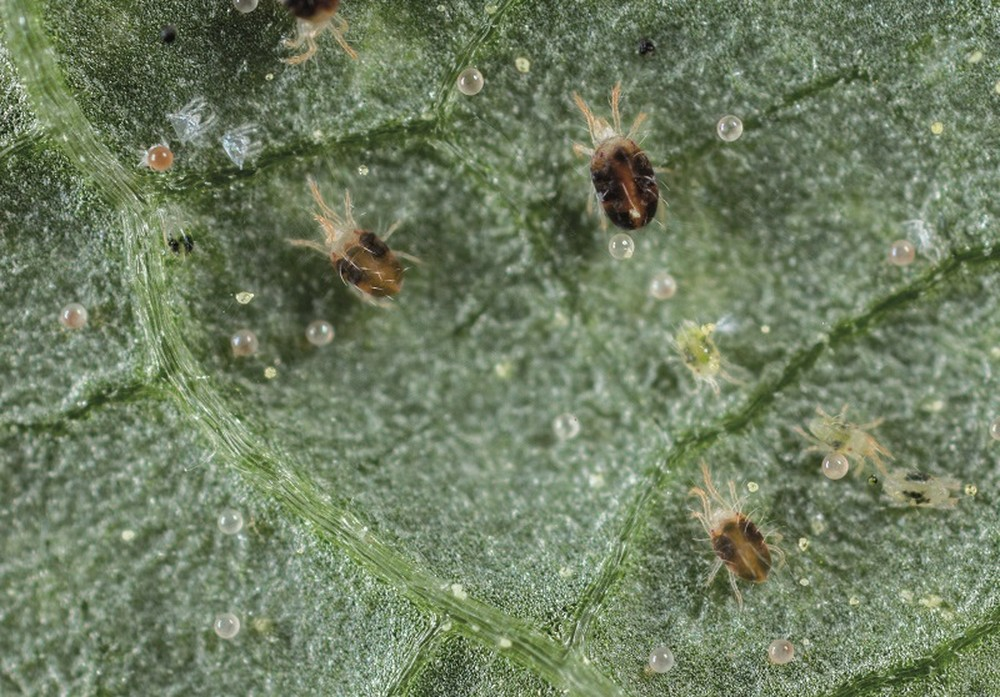Aracnido Rojo: (556, 84, 689, 250), (275, 172, 423, 320), (675, 473, 809, 613), (645, 309, 753, 399), (874, 452, 986, 528), (790, 399, 893, 472)
